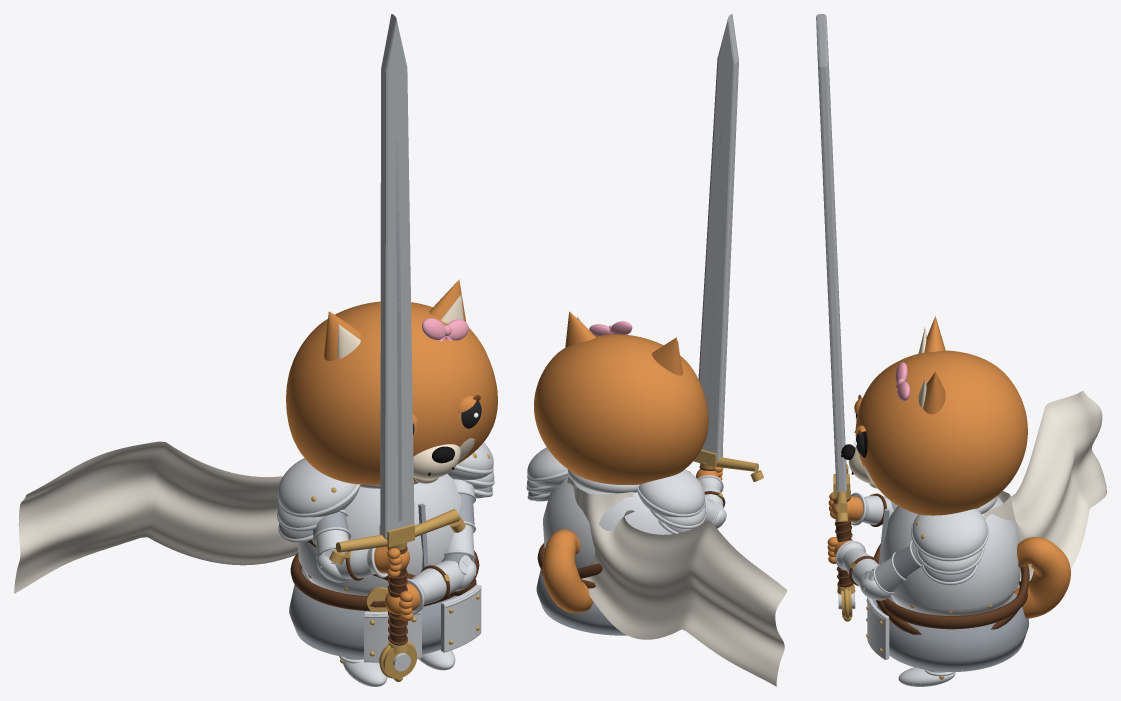
The model's file is knight-puppy.glb.
The picture shows the model from 3 angles, left to right: view 1: azimuth 30°, elevation 25°; view 2: azimuth 150°, elevation 25°; view 3: azimuth 270°, elevation 25°; orthographic projection. The views are drawn at different scales.
Visible parts, largest first — view 1: Cape, Skull, Blade, Cuirass, Chainmail, KnightPuppy, Pauldron (×2), Tasset (×2), Armor, Belt, Fuller, Vambrace (+4 smaller); view 2: Cape, Skull, Blade, Cuirass, Pauldron (×2), Tail, Chainmail, Armor, Ear (×2), KnightPuppy, Gorget, Crossguard; view 3: Skull, Cape, Cuirass, Chainmail, Blade, Tail, Pauldron, KnightPuppy, Armor, Belt, Vambrace (×2), Ear (×2) (+4 smaller).
Boxes of the visible parts, x1,y1,x2,y2 form: Cape: (14,441,298,593); Skull: (286,301,497,484); Blade: (380,14,414,538); Cuirass: (297,474,461,595); Chainmail: (289,567,476,659); KnightPuppy: (312,479,475,614); Pauldron (×2): (278,442,493,517); Tasset (×2): (364,584,481,662); Armor: (277,453,494,681); Belt: (290,550,479,611); Fuller: (395,141,402,521); Vambrace: (411,560,464,604); Cape: (567,477,787,686); Skull: (534,334,708,484); Blade: (698,14,738,460); Cuirass: (543,476,672,568); Pauldron (×2): (527,447,704,517); Tail: (542,529,593,613); Chainmail: (536,569,627,635); Armor: (526,471,705,554); Ear (×2): (565,311,682,375); KnightPuppy: (696,469,725,523); Gorget: (567,469,639,493); Crossguard: (716,457,758,471); Skull: (855,350,1027,515); Cape: (983,391,1106,581); Cuirass: (881,496,1020,615); Chainmail: (877,583,1029,671); Blade: (816,14,846,492); Tail: (1014,537,1070,618); Pauldron: (912,508,987,558); KnightPuppy: (831,492,921,593); Armor: (866,509,1020,684); Belt: (882,581,1027,629); Vambrace (×2): (842,495,892,586); Ear (×2): (923,316,945,414).
Bounding box in the file's own units: 0.048 × 0.0845 × 0.0355.
